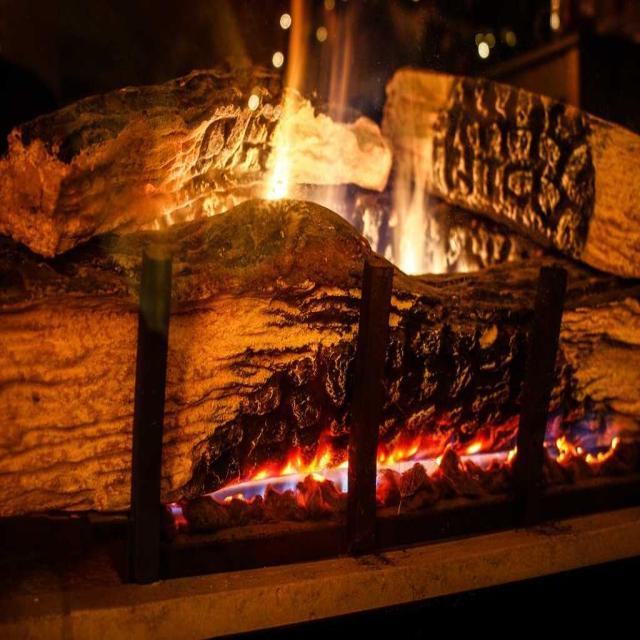Fire: (389, 143, 447, 271), (264, 29, 304, 202), (382, 426, 514, 468), (217, 462, 347, 495)
